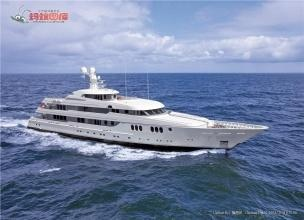yacht: (27, 63, 271, 149)
